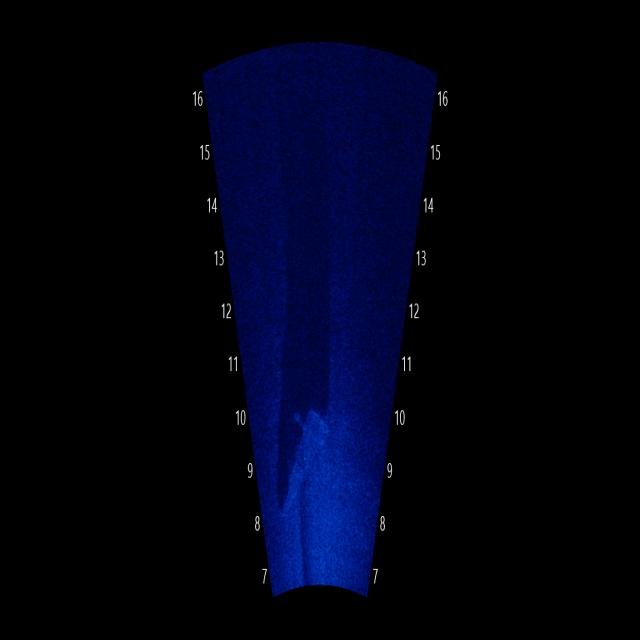triangle: (276, 398, 330, 529)
